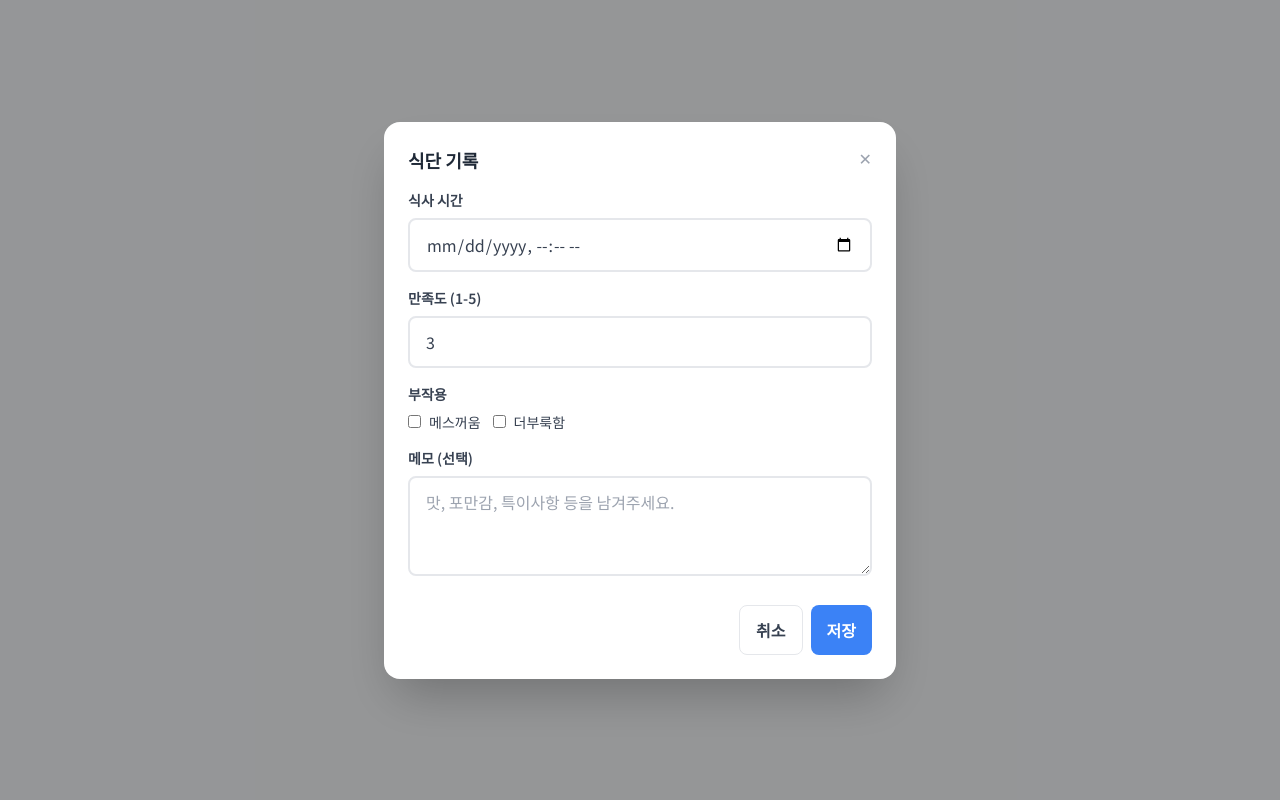
Scenario: MealRecordModal › API 에러 시 메시지를 표시한다
Type "2025-11-21T12:00" into the field with id "meal-time" at [640, 244], box x1=408 y1=218 x2=872 y2=272
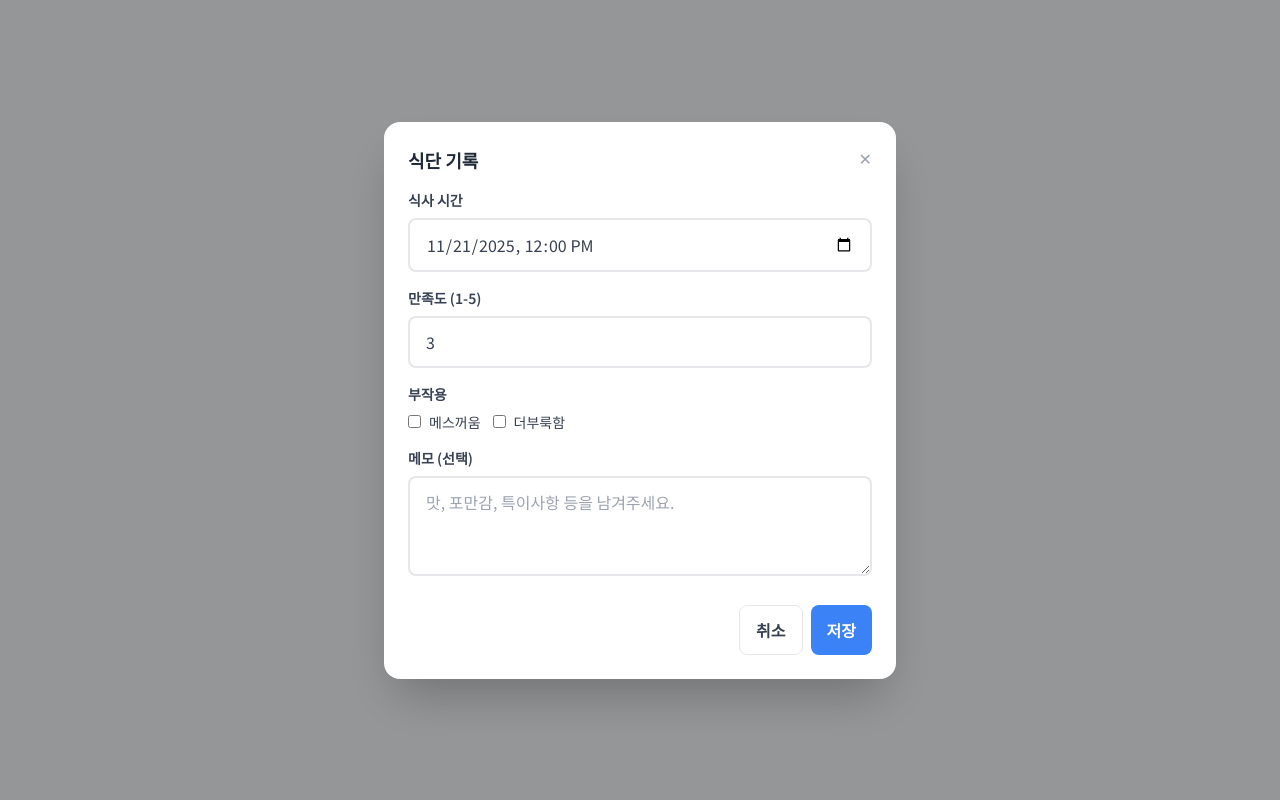
Submit the form, box x1=408 y1=190 x2=872 y2=654
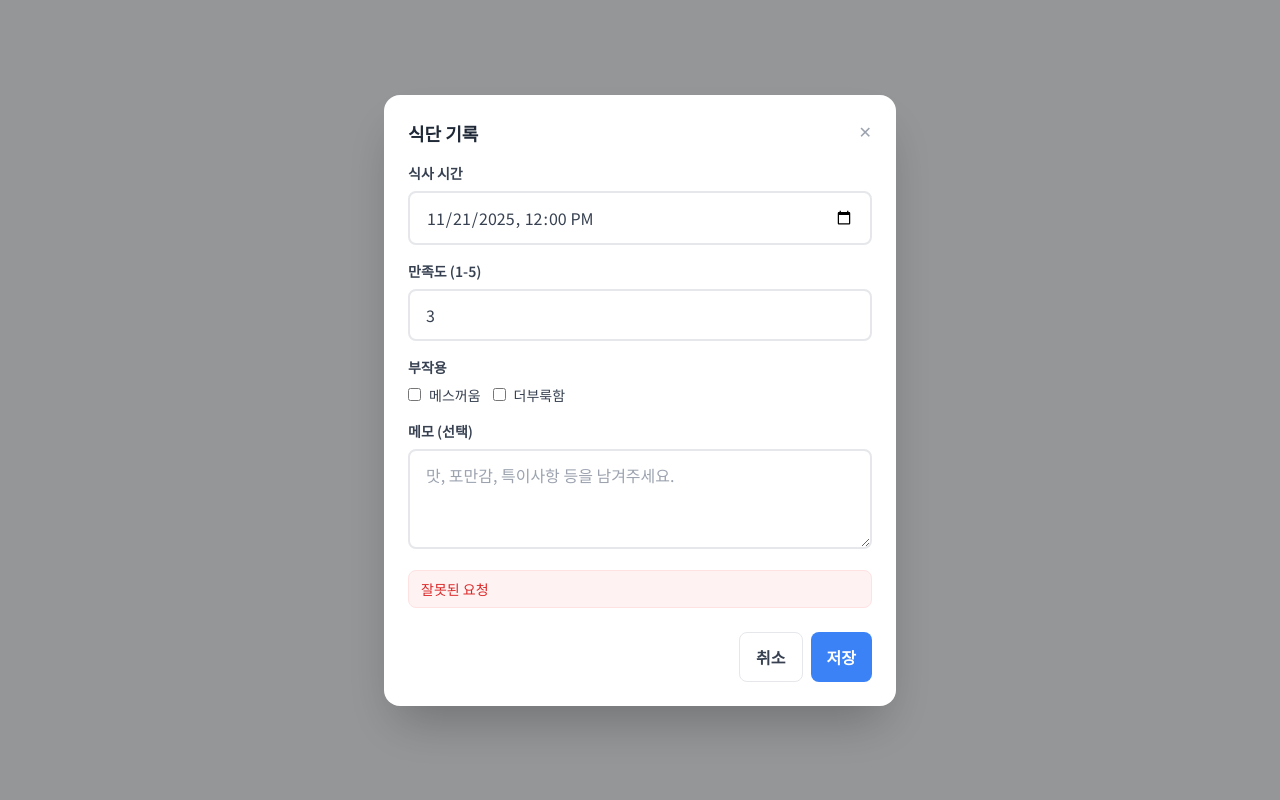
Expected: the text "잘못된 요청" is shown, x1=408 y1=570 x2=872 y2=608
